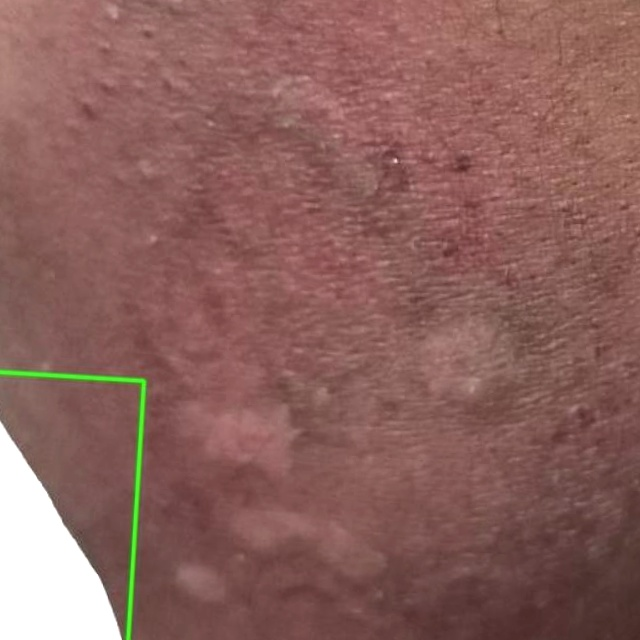Eczema: (0, 372, 143, 639)
